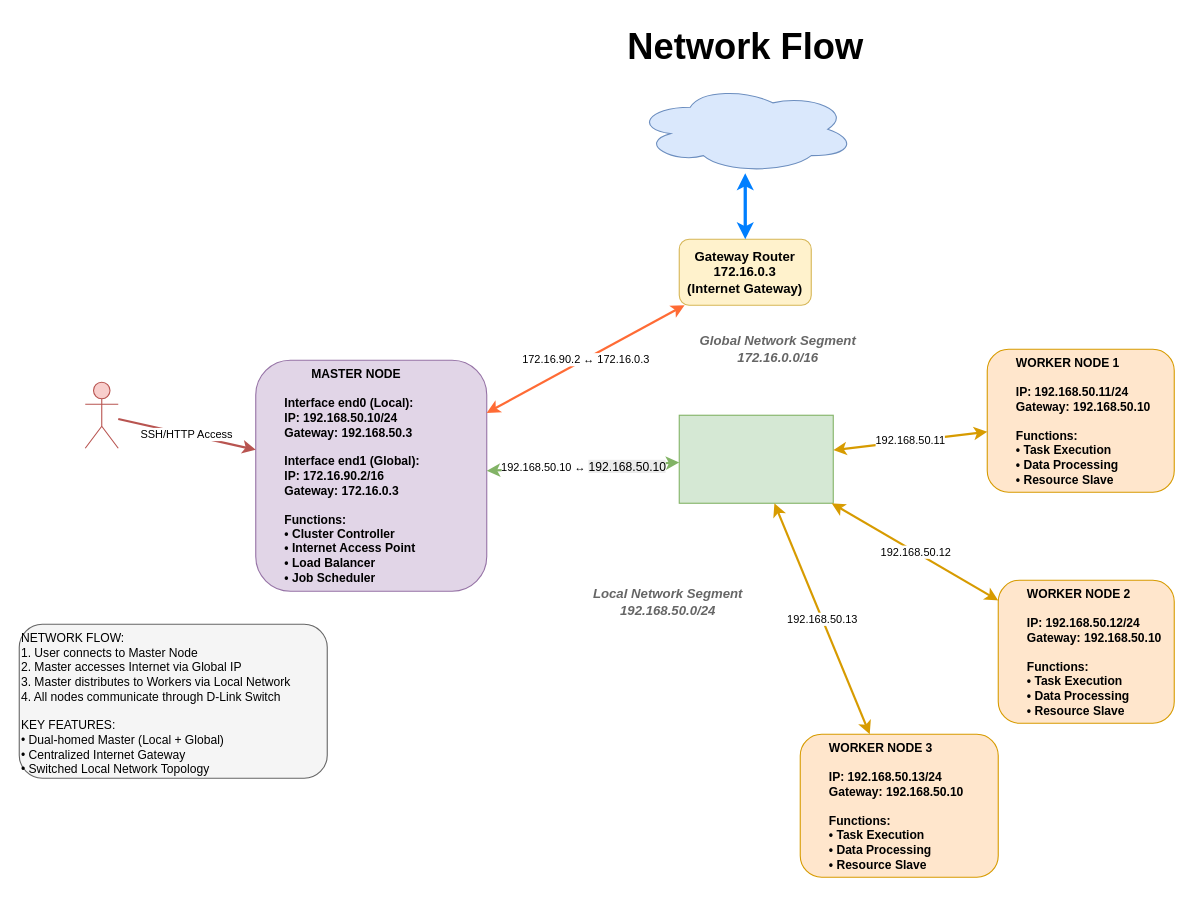
Some shapes in this 1194 by 897 pixel diagram are drawn without their labels. The shapes that lost their labels are listed below. From the top down, each one's centre as x and y in pixels, then its label:
At point (744, 128): "INTERNET Global Network".
At point (101, 414): "User (Summer School Student)".
At point (755, 458): "D-Link Switch Local Network Hub 192.168.50.0/24 Gateway: 192.168.50.10".
